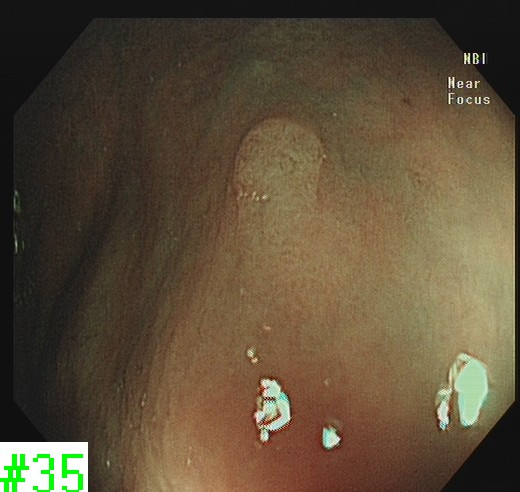adenoma: (229, 113, 326, 213)
